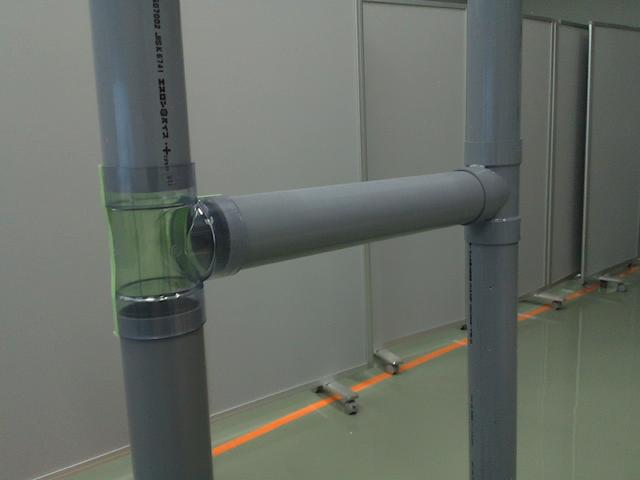junction: (108, 162, 238, 342), (450, 139, 527, 242)
